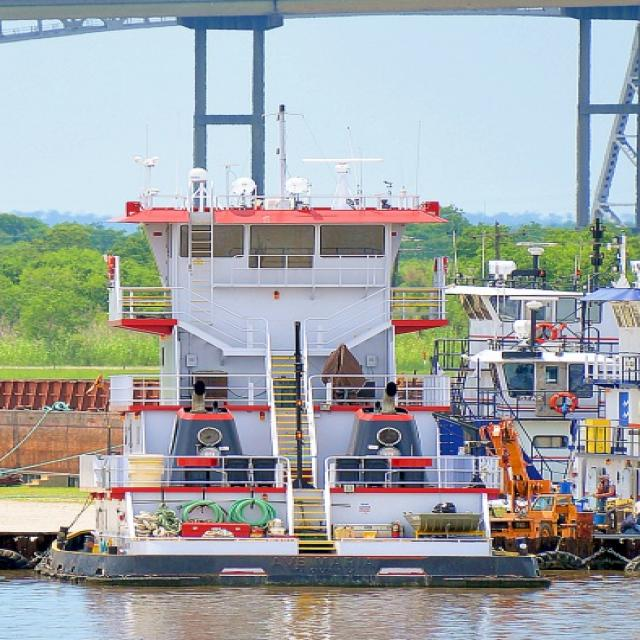tugboat: (30, 156, 557, 600)
